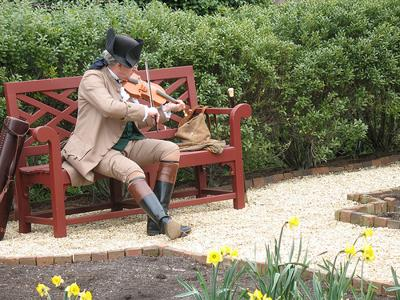person: (62, 34, 192, 241)
